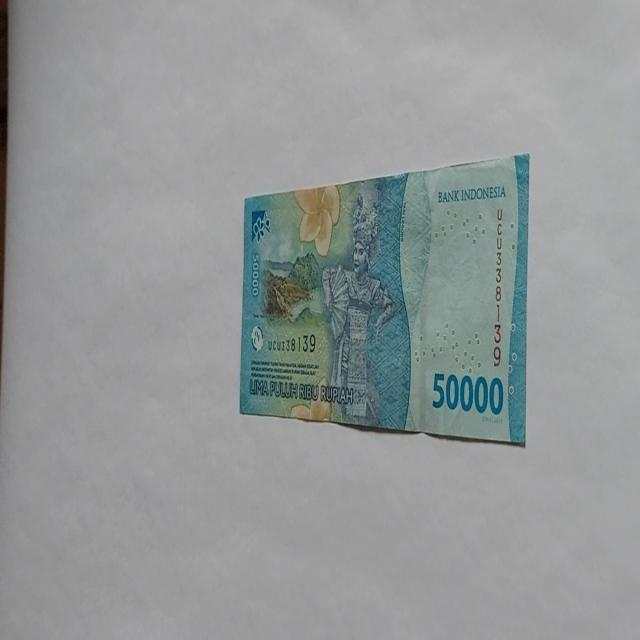lima puluh ribu rupiah: (238, 150, 530, 447)
